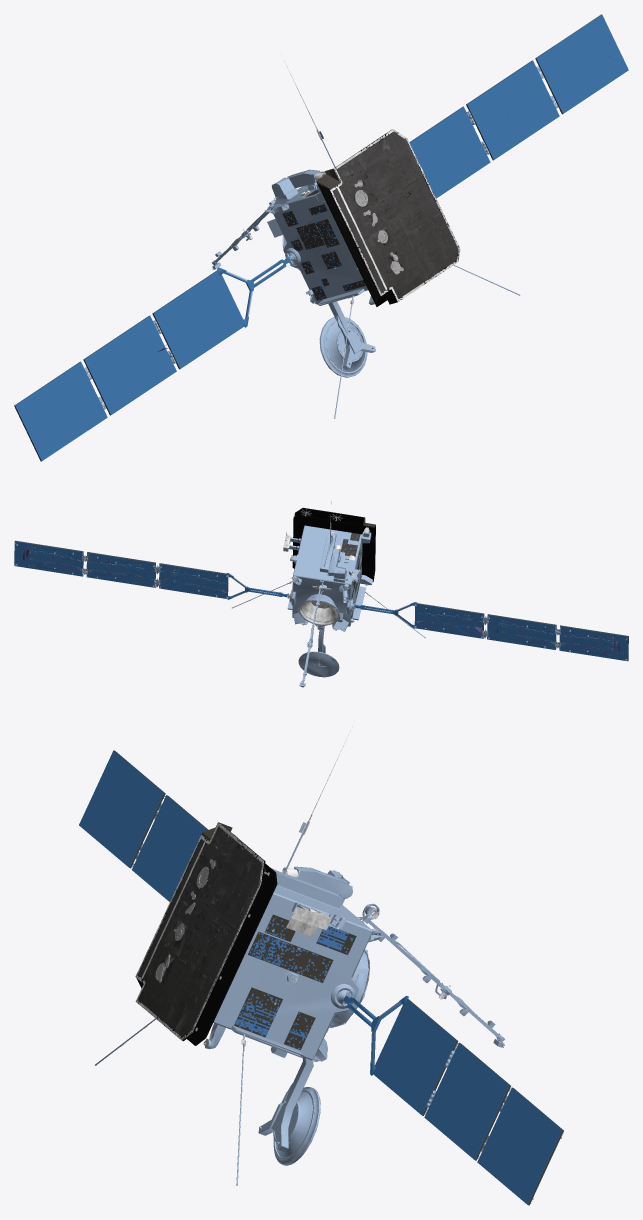
The model's file is satellite-silver-blue.glb.
3 views of the same model, one above another, from view 1: azimuth 30°, elevation 25°; view 2: azimuth 150°, elevation 25°; view 3: azimuth 270°, elevation 25° (orthographic). The views are drawn at different scales.
Parts seen in each view (by area): view 1: Satellite__SO_WING_BROWN__SO_BROWN_0, Satellite__SO_WING_BROWN001__SO_BROWN_0, Satellite__SO_Shield_PIECES__SO_Shield_0, Satellite__SO_Shield__SO_Shield_0, Satellite__SO_MAIN_BODY__SO_FOIL_0, Satellite__SO_BROWN_ANTENNA__SO_BROWN_0, Satellite__SO_DARK_GREY__SO_DARK_GREY_0, Satellite__SO_FOIL__SO_FOIL_0, Satellite__SO_Shield_MAIN__SO_FOIL_0, Satellite__SO_Shield_Border__SO_Shield_Fabric_0, Satellite__SO_WING_SOLAR_PANnEL001__SO_Solar_pannel_0.004, Satellite__SO_WING_SOLAR_PANnEL__SO_Solar_pannel_0.004 (+8 smaller); view 2: Satellite__SO_WING_BROWN001__SO_BROWN_0, Satellite__SO_WING_BROWN__SO_BROWN_0, Satellite__SO_MAIN_BODY__SO_FOIL_0, Satellite__SO_FOIL__SO_FOIL_0, Satellite__SO_Shield_MAIN__SO_FOIL_0, Satellite__SO_White_Metal__SO_Shield_Fabric_0, Satellite__SO_BROWN_ANTENNA__SO_BROWN_0, Satellite__SO_WING_CABLES_Material #34_0, Satellite__SO_WING_CABLES001_Material #34_0, Satellite__SO_DARK_GREY__SO_DARK_GREY_0, Satellite__SO_TAIL__SO_FOIL_0, Satellite__SO_WING_BORDER__SO_DARK_GREY_0 (+1 smaller); view 3: Satellite__SO_WING_BROWN001__SO_BROWN_0, Satellite__SO_MAIN_BODY__SO_FOIL_0, Satellite__SO_WING_BROWN__SO_BROWN_0, Satellite__SO_Shield_PIECES__SO_Shield_0, Satellite__SO_Shield__SO_Shield_0, Satellite__SO_DARK_GREY__SO_DARK_GREY_0, Satellite__SO_FOIL__SO_FOIL_0, Satellite__SO_Shield_MAIN__SO_FOIL_0, Satellite__SO_BROWN_ANTENNA__SO_BROWN_0, Satellite__SO_Solar_pannel001__SO_Solar_pannel_0.001, Satellite__SO_Shield_Border__SO_Shield_Fabric_0, Satellite__SO_TAIL__SO_FOIL_0 (+7 smaller).
Part boxes in pixels (x1,y1,x2,y2): Satellite__SO_WING_BROWN__SO_BROWN_0: [15, 270, 243, 460]; Satellite__SO_WING_BROWN001__SO_BROWN_0: [410, 14, 628, 197]; Satellite__SO_Shield_PIECES__SO_Shield_0: [336, 136, 453, 298]; Satellite__SO_Shield__SO_Shield_0: [332, 131, 458, 298]; Satellite__SO_MAIN_BODY__SO_FOIL_0: [270, 187, 367, 304]; Satellite__SO_BROWN_ANTENNA__SO_BROWN_0: [319, 301, 375, 377]; Satellite__SO_DARK_GREY__SO_DARK_GREY_0: [282, 168, 365, 300]; Satellite__SO_FOIL__SO_FOIL_0: [264, 169, 374, 305]; Satellite__SO_Shield_MAIN__SO_FOIL_0: [317, 129, 459, 306]; Satellite__SO_Shield_Border__SO_Shield_Fabric_0: [330, 129, 460, 301]; Satellite__SO_WING_SOLAR_PANnEL001__SO_Solar_pannel_0.004: [538, 16, 626, 111]; Satellite__SO_WING_SOLAR_PANnEL__SO_Solar_pannel_0.004: [17, 364, 103, 457]; Satellite__SO_WING_BROWN001__SO_BROWN_0: [14, 540, 228, 598]; Satellite__SO_WING_BROWN__SO_BROWN_0: [414, 603, 628, 661]; Satellite__SO_MAIN_BODY__SO_FOIL_0: [291, 525, 362, 626]; Satellite__SO_FOIL__SO_FOIL_0: [287, 529, 372, 631]; Satellite__SO_Shield_MAIN__SO_FOIL_0: [292, 508, 375, 581]; Satellite__SO_White_Metal__SO_Shield_Fabric_0: [249, 501, 410, 686]; Satellite__SO_BROWN_ANTENNA__SO_BROWN_0: [298, 626, 339, 677]; Satellite__SO_WING_CABLES_Material #34_0: [416, 608, 627, 657]; Satellite__SO_WING_CABLES001_Material #34_0: [14, 548, 227, 595]; Satellite__SO_DARK_GREY__SO_DARK_GREY_0: [340, 517, 375, 618]; Satellite__SO_TAIL__SO_FOIL_0: [299, 580, 329, 687]; Satellite__SO_WING_BORDER__SO_DARK_GREY_0: [415, 603, 628, 660]; Satellite__SO_WING_BROWN001__SO_BROWN_0: [373, 999, 563, 1205]; Satellite__SO_MAIN_BODY__SO_FOIL_0: [213, 886, 372, 1060]; Satellite__SO_WING_BROWN__SO_BROWN_0: [79, 751, 208, 900]; Satellite__SO_Shield_PIECES__SO_Shield_0: [138, 826, 260, 1034]; Satellite__SO_Shield__SO_Shield_0: [138, 829, 261, 1036]; Satellite__SO_DARK_GREY__SO_DARK_GREY_0: [201, 822, 356, 1050]; Satellite__SO_FOIL__SO_FOIL_0: [231, 866, 382, 1061]; Satellite__SO_Shield_MAIN__SO_FOIL_0: [136, 823, 277, 1045]; Satellite__SO_BROWN_ANTENNA__SO_BROWN_0: [258, 1057, 320, 1165]; Satellite__SO_Solar_pannel001__SO_Solar_pannel_0.001: [235, 917, 348, 1049]; Satellite__SO_Shield_Border__SO_Shield_Fabric_0: [135, 822, 263, 1040]; Satellite__SO_TAIL__SO_FOIL_0: [357, 903, 504, 1047].
Size of the model in its own units: 0.4999 by 0.1947 by 0.2055.
16 materials, 4 textured.
